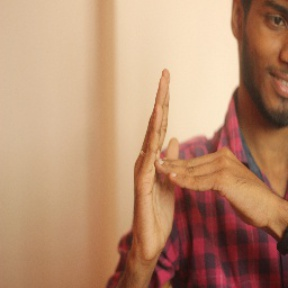Z: (125, 66, 270, 252)
